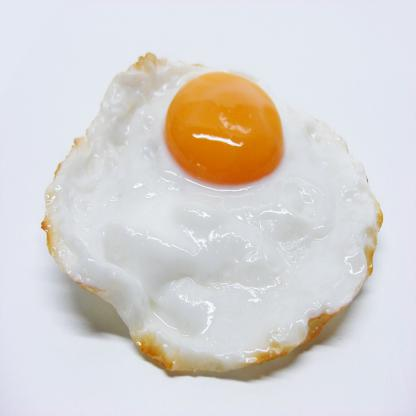egg: (44, 39, 382, 377)
